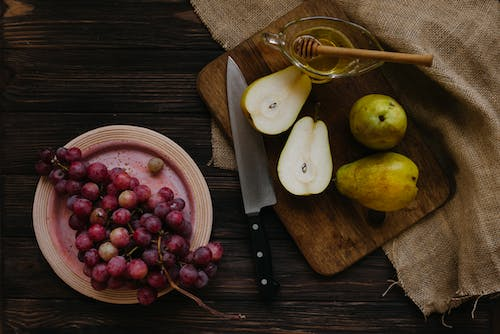knife: (225, 54, 279, 299)
